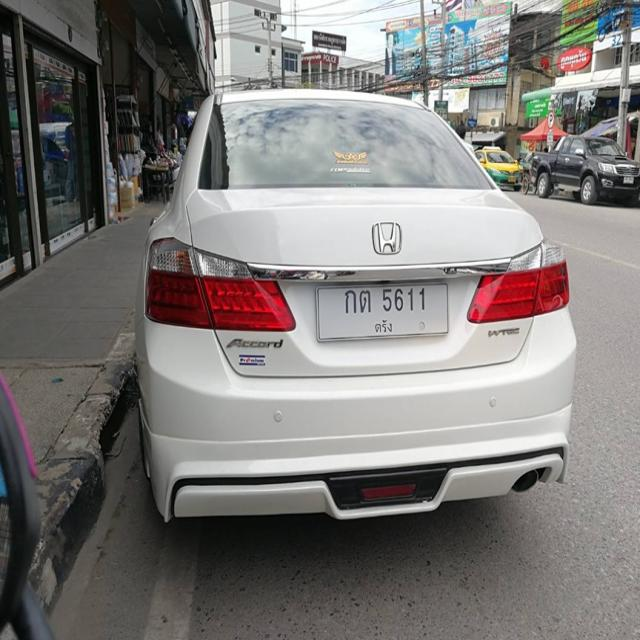license_plate: (315, 281, 451, 345)
